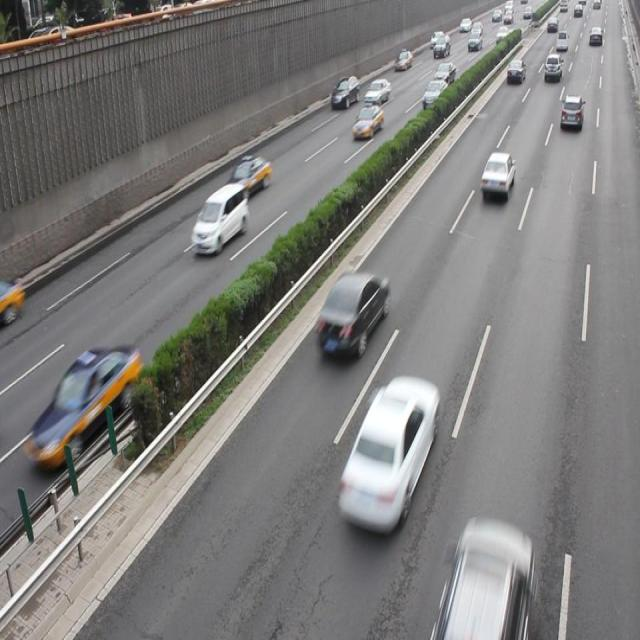car: (337, 372, 440, 532), (29, 344, 143, 468), (429, 513, 534, 640), (315, 269, 390, 362), (224, 156, 270, 203), (480, 152, 513, 196), (1, 272, 24, 324), (352, 105, 384, 140), (330, 75, 358, 109), (559, 95, 582, 131)
truck: (192, 182, 248, 254)
